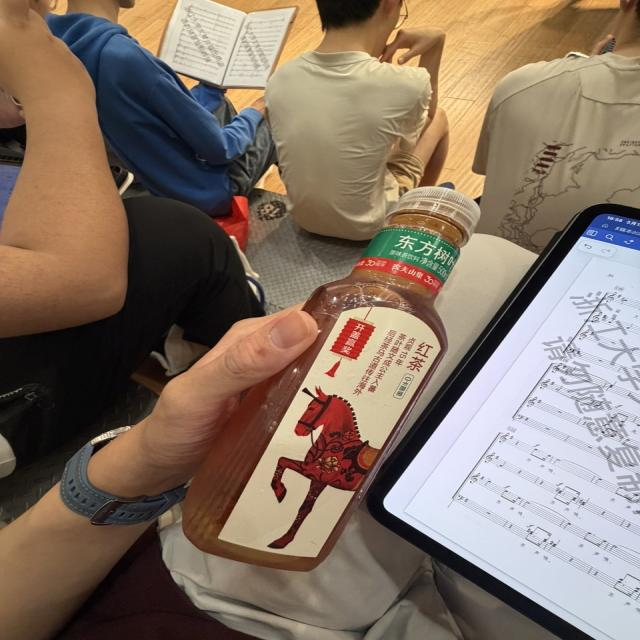high: (183, 204, 474, 570)
